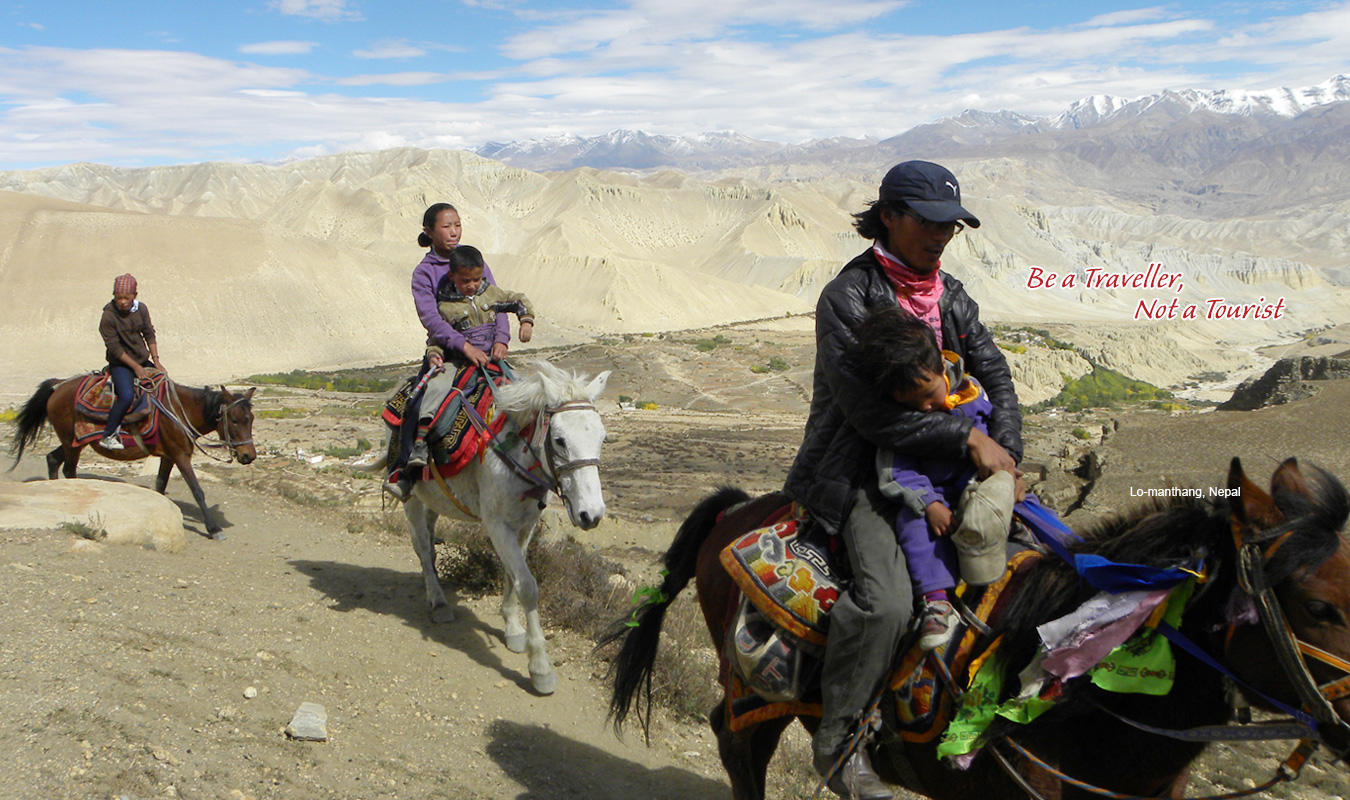human: (790, 140, 1056, 800), (389, 196, 555, 483), (422, 244, 542, 396), (96, 272, 183, 469)
